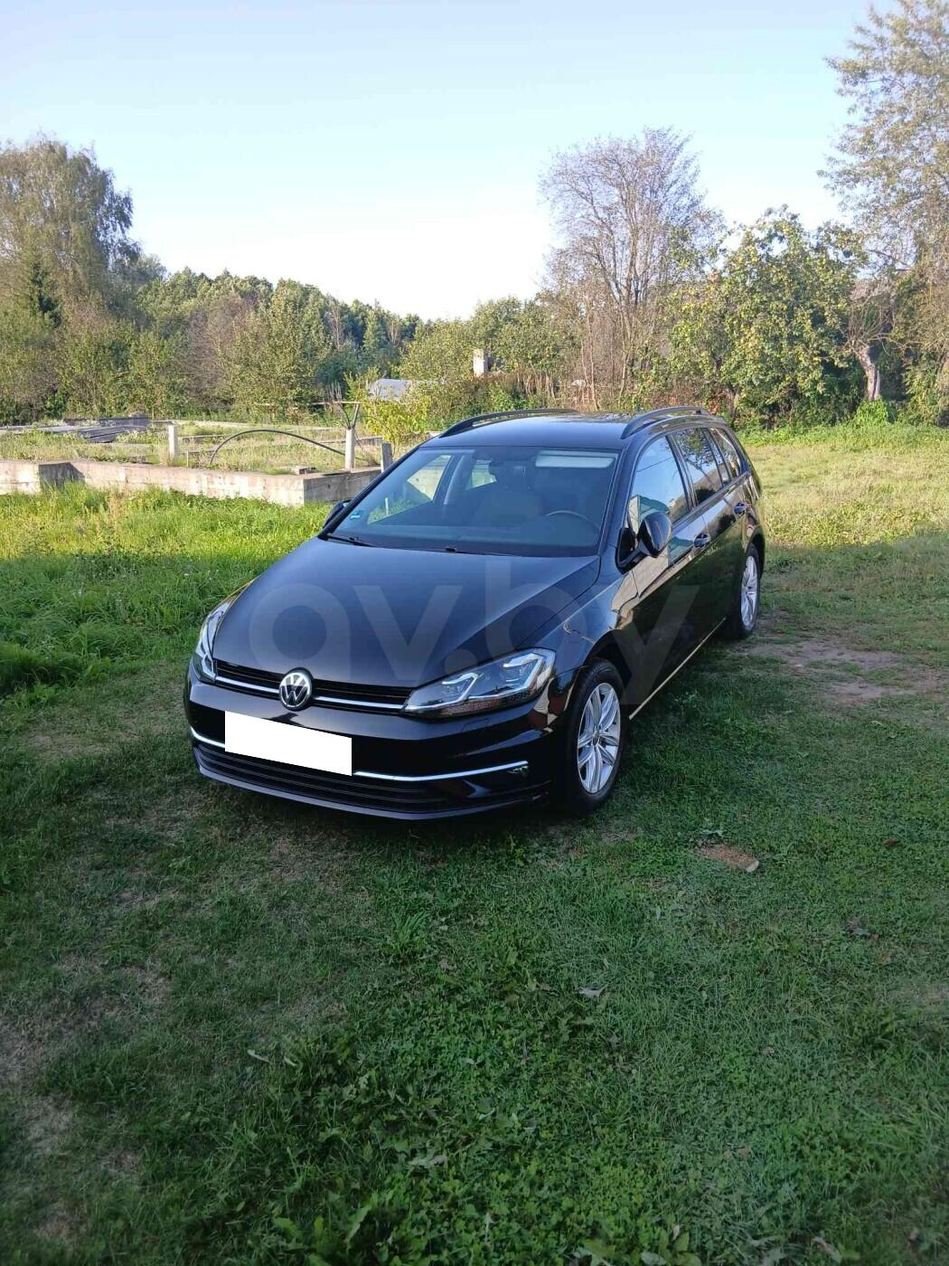Golf_2017-2021: (194, 403, 789, 832)
